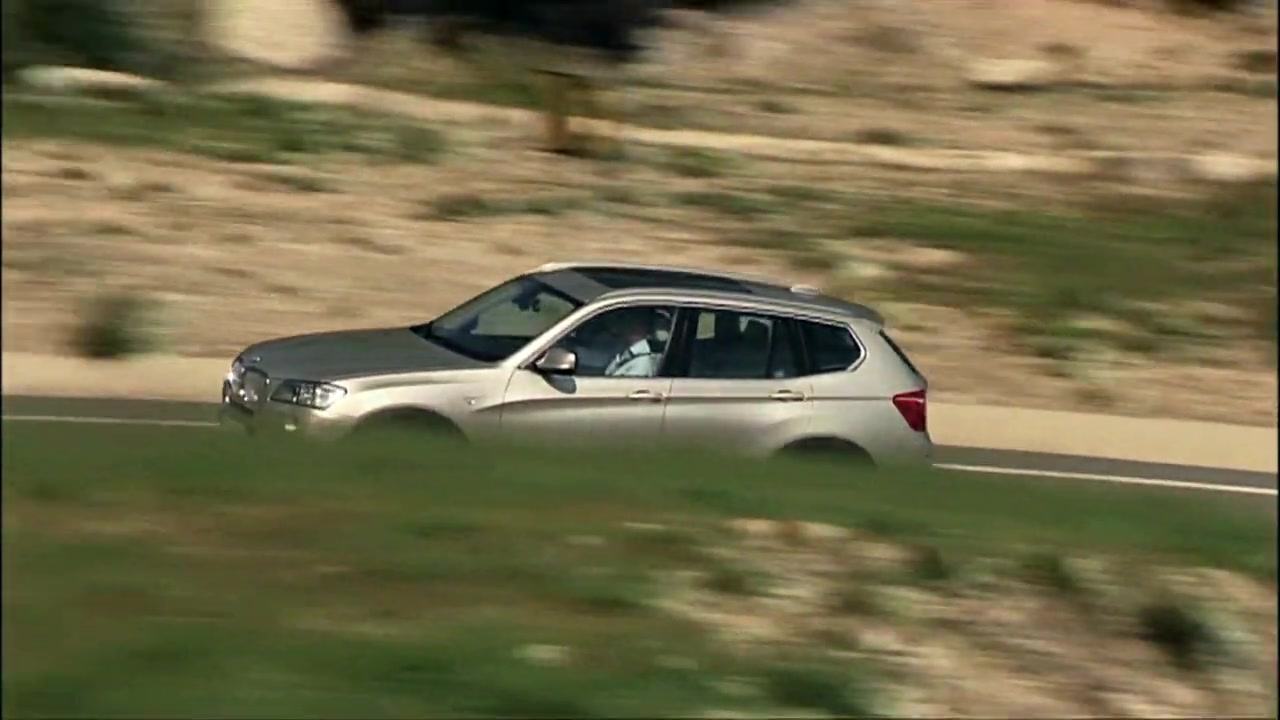car: (220, 260, 941, 480)
